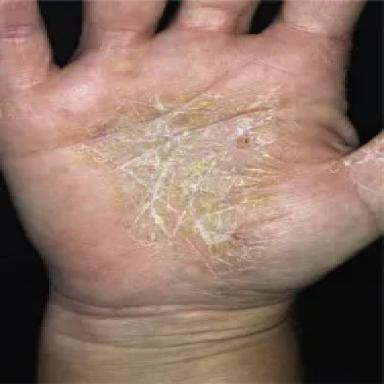eczema: (81, 82, 287, 278)
